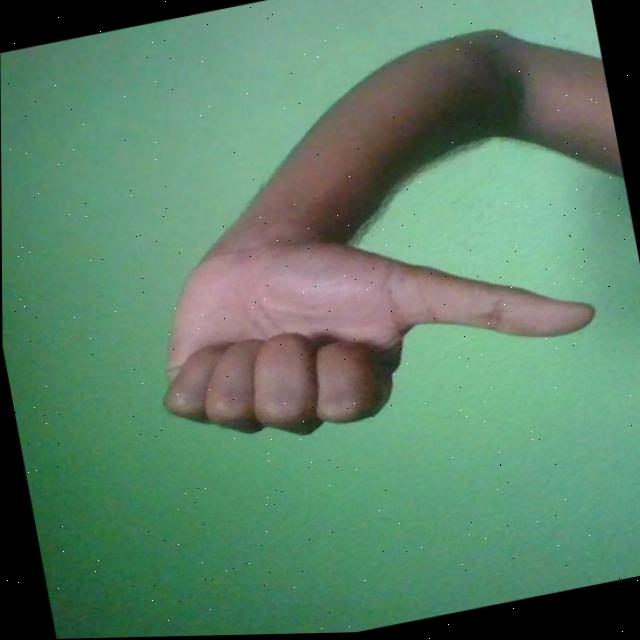Dislike: (135, 182, 604, 461)
